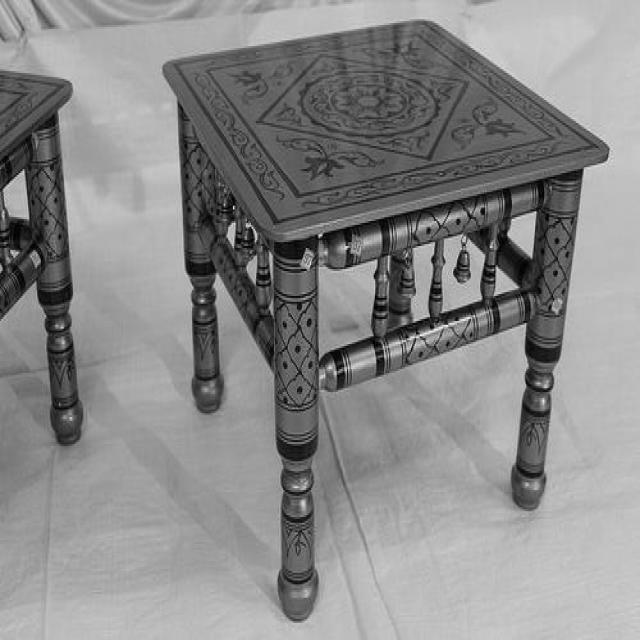table: (160, 14, 609, 622)
